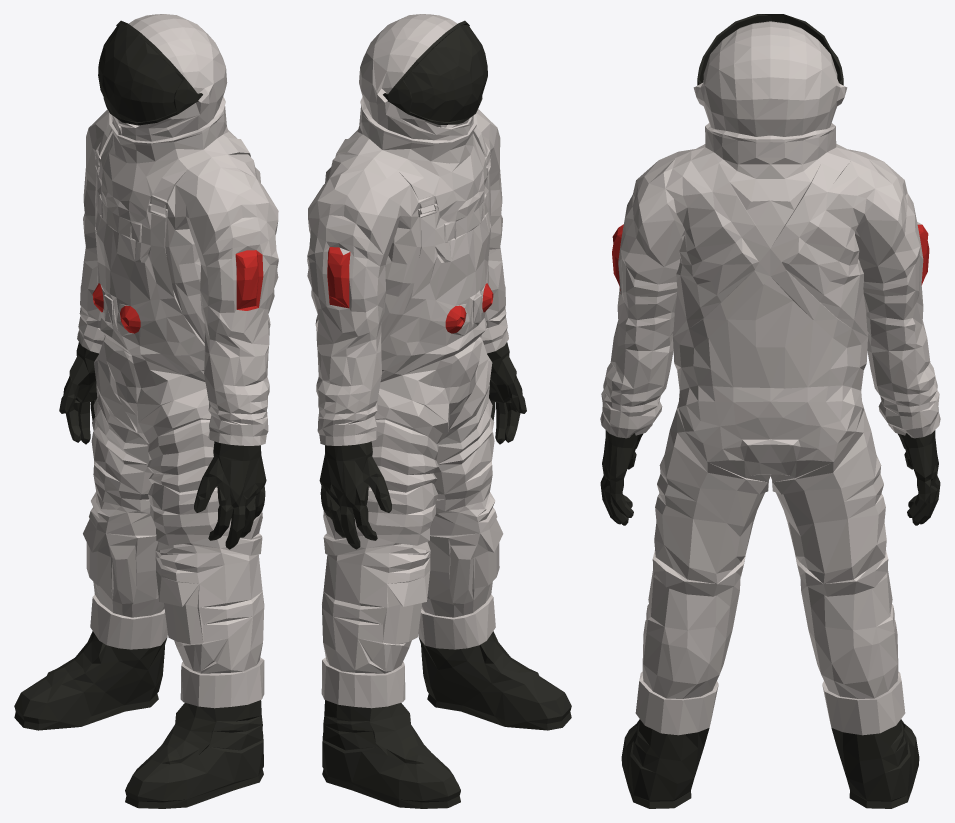
File: 05 Astronaut.FBX
The picture shows the model from 3 angles, left to right: view 1: azimuth 30°, elevation 25°; view 2: azimuth 150°, elevation 25°; view 3: azimuth 270°, elevation 25°; orthographic projection. The views are drawn at different scales.
Visible parts, largest first — view 1: suit; view 2: suit; view 3: suit.
Part boxes in pixels (x1,y1,x2,y2): suit: (14, 14, 278, 808); suit: (307, 14, 571, 808); suit: (600, 14, 940, 808).
Bounding box in the file's own units: 435 × 1780 × 721.
